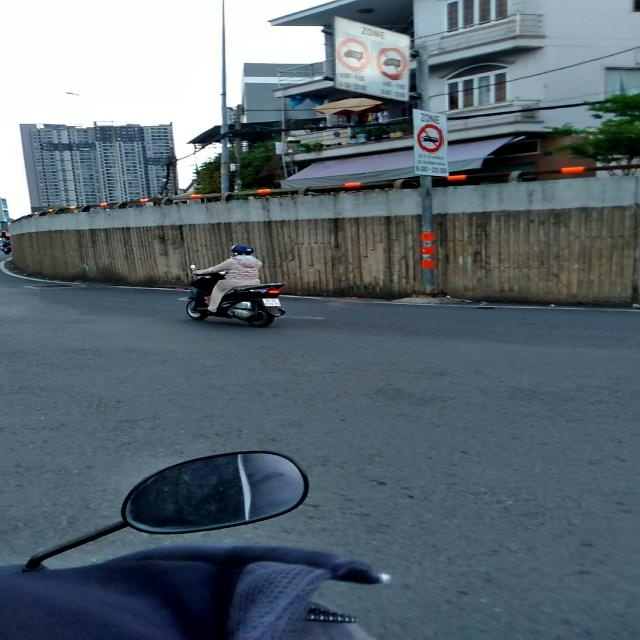bien_cam: (336, 38, 371, 73), (374, 48, 408, 80), (417, 124, 444, 154)
